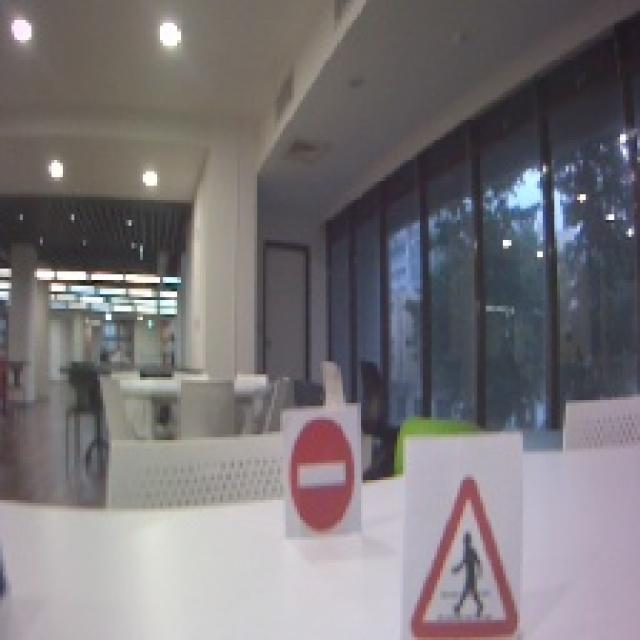DoNotEnterSign: (289, 416, 357, 534)
